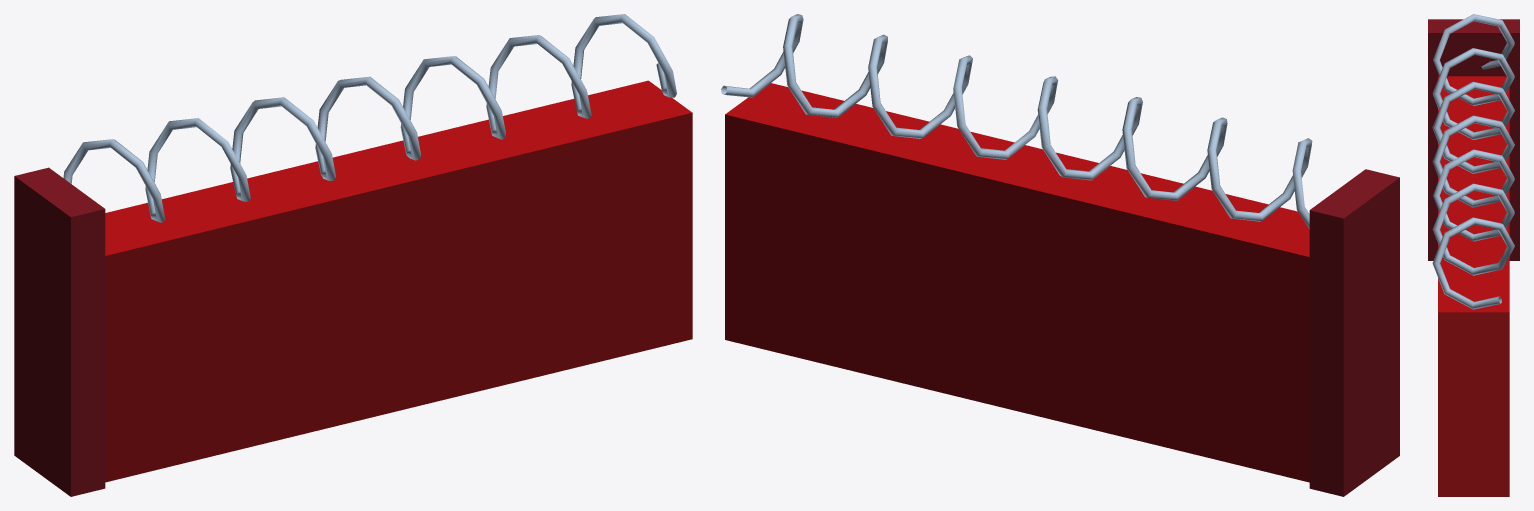
The model's file is PG_wall_cell.fbx.
3 views of the same model, side by side, from view 1: azimuth 30°, elevation 25°; view 2: azimuth 150°, elevation 25°; view 3: azimuth 270°, elevation 25° (orthographic). The views are drawn at different scales.
Visible parts, largest first — view 1: PG_wall_cell; view 2: PG_wall_cell; view 3: PG_wall_cell.
Part boxes in pixels (x1=…): PG_wall_cell: x1=14, y1=14, x2=692, y2=496; PG_wall_cell: x1=721, y1=14, x2=1399, y2=496; PG_wall_cell: x1=1428, y1=14, x2=1519, y2=496.
Size of the model in its own units: 431 by 206 by 65.92.
